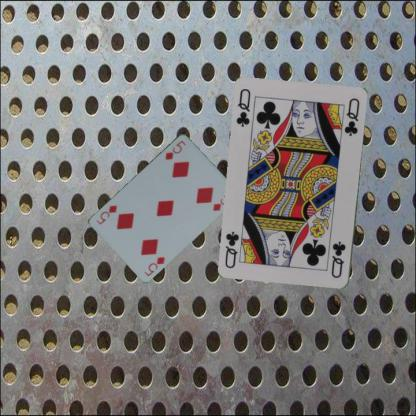5d: (142, 253, 166, 277), (162, 138, 188, 160)
Qc: (234, 86, 252, 128), (329, 239, 347, 280)
